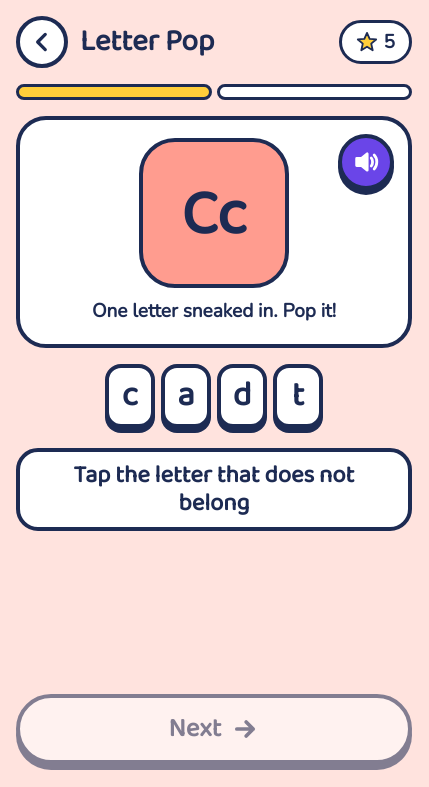
Scenario: LetterPop screen › marks a wrong pick, then pops the extra letter and unlocks Next
Expected: the text "One letter sneaked in. Pop it!" is shown, x1=92 y1=298 x2=336 y2=324
Click the button "c": (130, 396) x1=105 y1=364 x2=155 y2=428
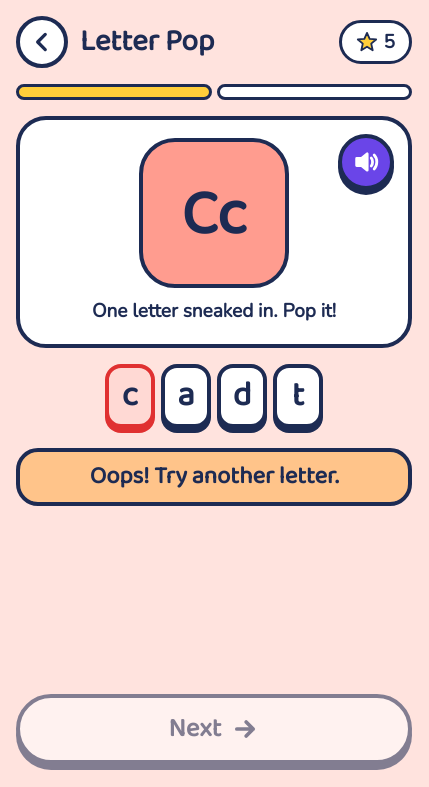
Result: the message reads "Oops! Try another letter." at x1=90 y1=457 x2=338 y2=496
Click the button named "Letter d": (242, 396) x1=217 y1=364 x2=267 y2=428
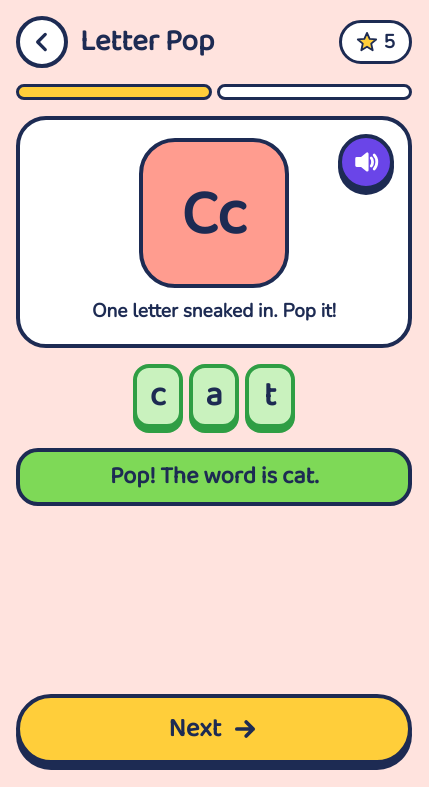
Result: the message reads "Pop! The word is cat." at x1=110 y1=457 x2=318 y2=496
Result: the element named "Letters" reads "c a t" at x1=133 y1=364 x2=295 y2=428
Result: the button "Next" is enabled at x1=16 y1=694 x2=412 y2=764
